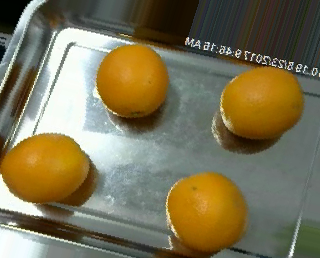Orange: (164, 170, 247, 253), (0, 133, 89, 205), (219, 65, 303, 140), (96, 43, 170, 118)
